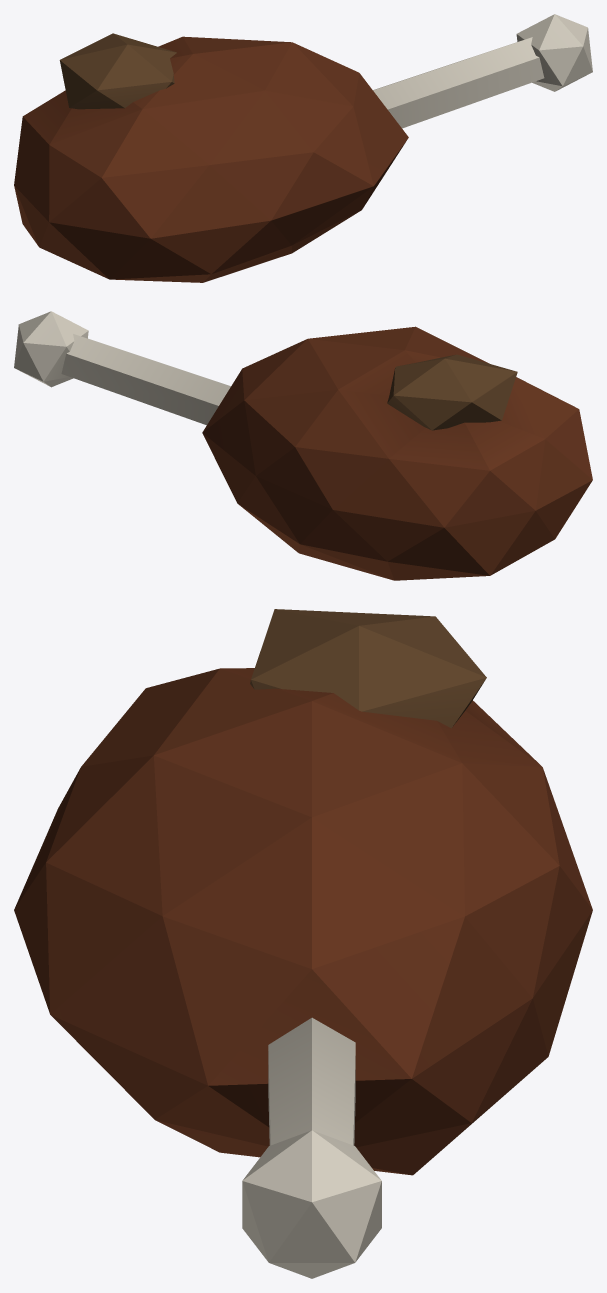
The model's file is VenisonCooked.fbx.
3 views of the same model, one above another, from view 1: azimuth 30°, elevation 25°; view 2: azimuth 150°, elevation 25°; view 3: azimuth 270°, elevation 25° (orthographic). The views are drawn at different scales.
Visible parts, largest first — view 1: VenisonCooked; view 2: VenisonCooked; view 3: VenisonCooked.
Boxes of the visible parts, x1,y1,x2,y2 form: VenisonCooked: (14, 14, 592, 282); VenisonCooked: (14, 311, 592, 580); VenisonCooked: (14, 609, 592, 1278).
Size of the model in its own units: 0.5295 by 0.2102 by 0.2469.
